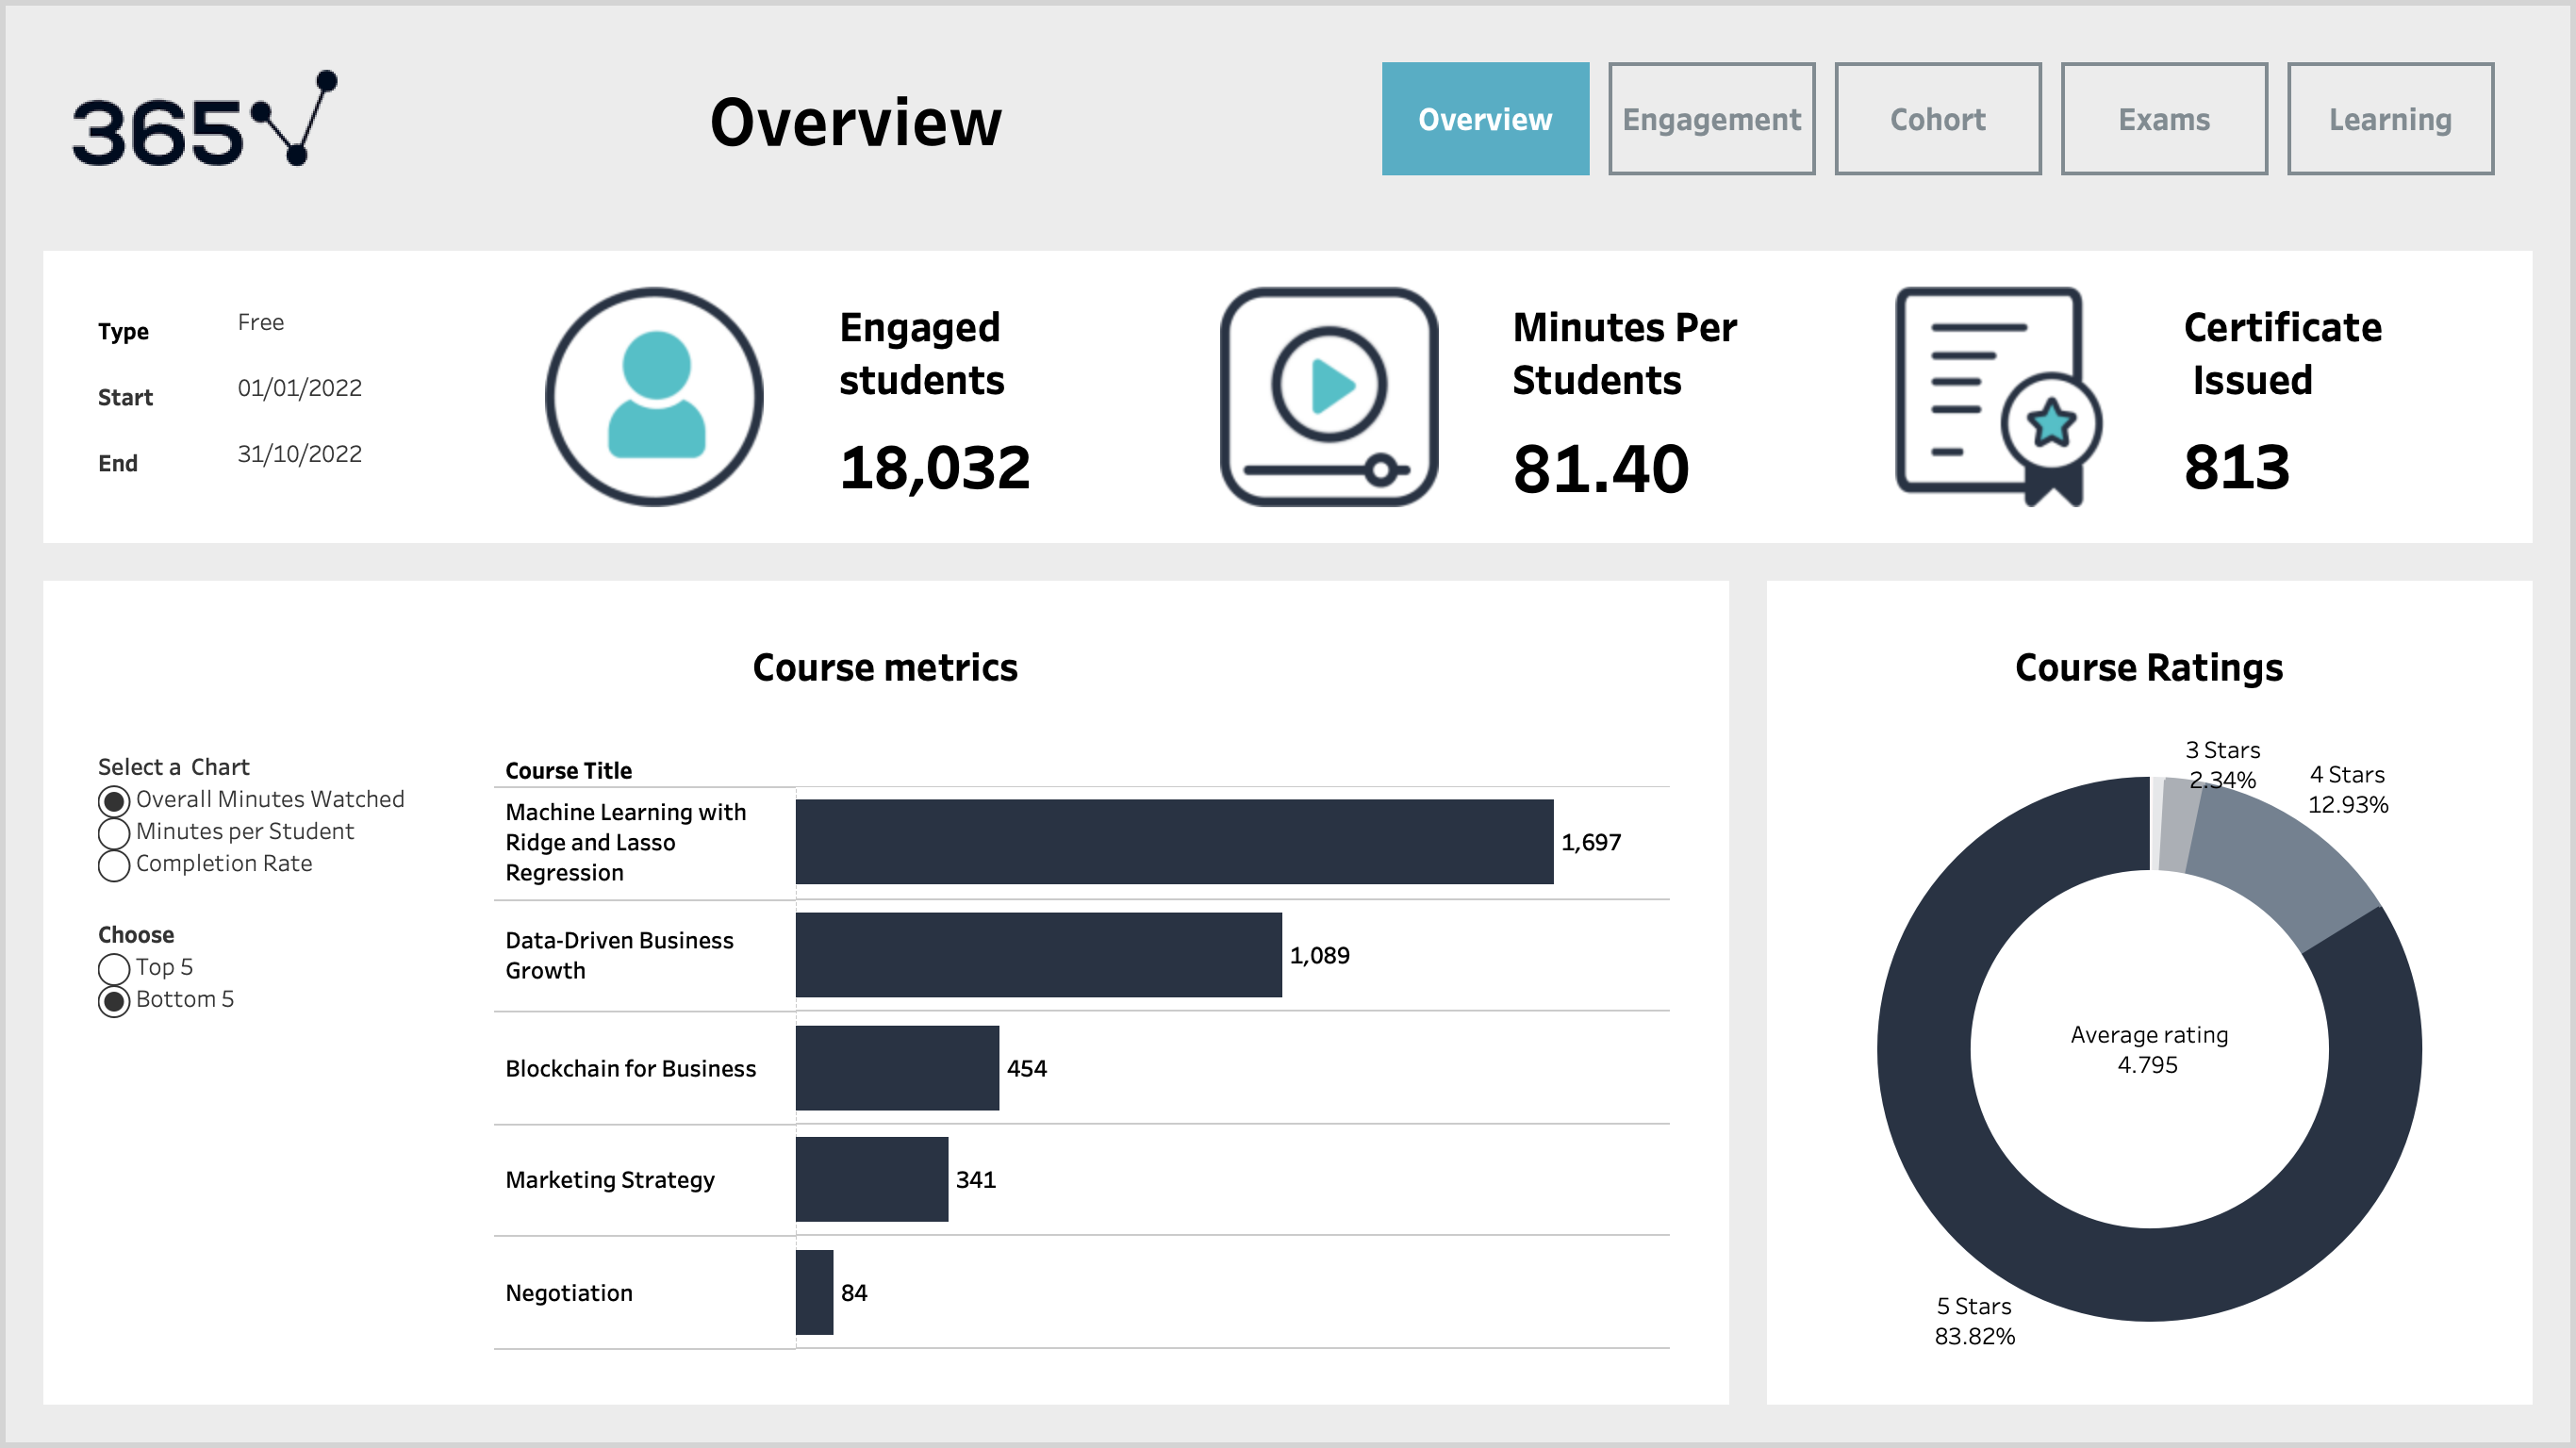

What the dashboard file says about the page in this screenshot:
{"tool":"tableau","page":{"name":"Overview ","canvas":[1366,768],"ordinal":6},"visuals":[{"type":"image","param":"/Users/ayush/Downloads/images/logo.png","box":[38,28,142,70]},{"type":"text","box":[180,28,548,70]},{"type":"dashboard-object","box":[728,28,120,70]},{"type":"dashboard-object","box":[848,28,120,70]},{"type":"dashboard-object","box":[968,28,120,70]},{"type":"dashboard-object","box":[1088,28,120,70]},{"type":"dashboard-object","box":[1208,28,120,70]},{"type":"image","param":"/Users/ayush/Downloads/images/engaged students.png","box":[258,148,179,125]},{"type":"worksheet","title":"kpi students ","mark":"Automatic","box":[437,148,179,125]},{"type":"image","param":"/Users/ayush/Downloads/images/minutes watched.png","box":[616,148,178,125]},{"type":"worksheet","title":"kpi_minutes","mark":"Automatic","box":[794,148,178,125]},{"type":"image","param":"/Users/ayush/Downloads/images/certificates issued.png","box":[972,148,178,125]},{"type":"worksheet","title":"KPI_CERTIFICATE","mark":"Automatic","box":[1150,148,178,125]},{"type":"parameter","param":"[Parameters].[Parameter 2]","box":[48,158,200,35]},{"type":"parameter","param":"[Parameters].[Parameter 1]","box":[48,193,200,35]},{"type":"parameter","param":"[Parameters].[Minimum Engagement Date  (copy)_774900679219912704]","box":[48,228,200,35]},{"type":"text","box":[38,323,864,60]},{"type":"text","box":[952,323,376,60]},{"type":"worksheet","title":"courses minutes","mark":"Automatic","rows":["course_title","Calculation_127437864161071113"],"cols":["minutes_watched"],"box":[248,383,652,347]},{"type":"worksheet","title":"courses minutes per students  ","mark":"Automatic","rows":["Calculation_127437864326082572","course_title"],"cols":["minutes_per_student"],"box":[900,383,1,347]},{"type":"worksheet","title":"courses completion rate","mark":"Automatic","rows":["course_title","Calculation_127437864332025870"],"cols":["completion_rate"],"box":[901,383,1,347]},{"type":"worksheet","title":"Course rating","mark":"Pie","rows":["Calculation_3486349063642902528","Calculation_3486349063642902528"],"box":[952,383,376,347]},{"type":"parameter","param":"[Parameters].[Parameter 4]","box":[48,393,190,89]},{"type":"parameter","param":"[Parameters].[Parameter 3]","box":[48,482,190,70]}]}

Visuals, with their boxes in screenshot pixels (x1, y1, x2, y2), scaled from the page's 1366x768 canvas onto the 2576x1448 screenshot:
image: select_region(72, 53, 339, 185)
text: select_region(339, 53, 1373, 185)
dashboard-object: select_region(1373, 53, 1599, 185)
dashboard-object: select_region(1599, 53, 1825, 185)
dashboard-object: select_region(1825, 53, 2052, 185)
dashboard-object: select_region(2052, 53, 2278, 185)
dashboard-object: select_region(2278, 53, 2504, 185)
image: select_region(487, 279, 824, 515)
"kpi students " worksheet: select_region(824, 279, 1162, 515)
image: select_region(1162, 279, 1497, 515)
"kpi_minutes" worksheet: select_region(1497, 279, 1833, 515)
image: select_region(1833, 279, 2169, 515)
"KPI_CERTIFICATE" worksheet: select_region(2169, 279, 2504, 515)
parameter: select_region(91, 298, 468, 364)
parameter: select_region(91, 364, 468, 430)
parameter: select_region(91, 430, 468, 496)
text: select_region(72, 609, 1701, 722)
text: select_region(1795, 609, 2504, 722)
"courses minutes" worksheet: select_region(468, 722, 1697, 1376)
"courses minutes per students  " worksheet: select_region(1697, 722, 1699, 1376)
"courses completion rate" worksheet: select_region(1699, 722, 1701, 1376)
"Course rating" worksheet (Pie marks): select_region(1795, 722, 2504, 1376)
parameter: select_region(91, 741, 449, 909)
parameter: select_region(91, 909, 449, 1041)
